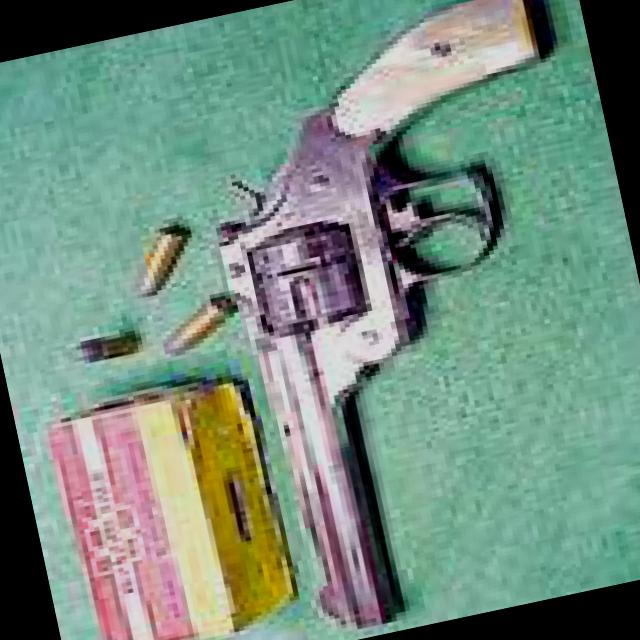handgun: (174, 0, 639, 639)
